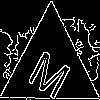M: (25, 41, 77, 100)
